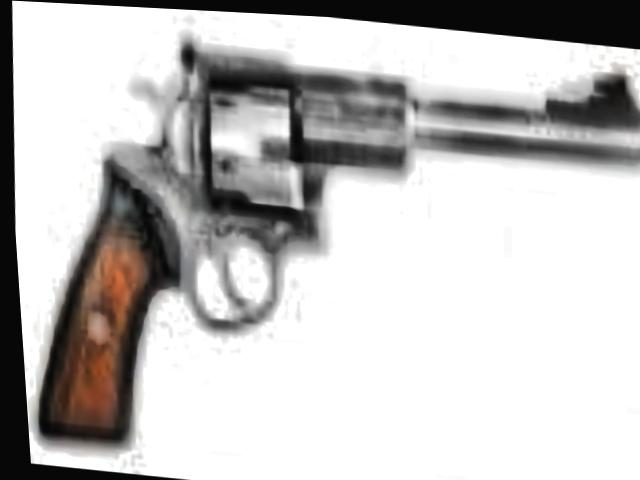pistol: (6, 5, 640, 480)
